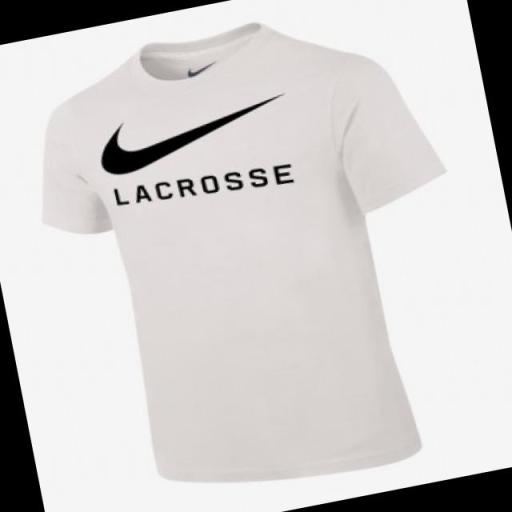Nike: (85, 87, 301, 190)
